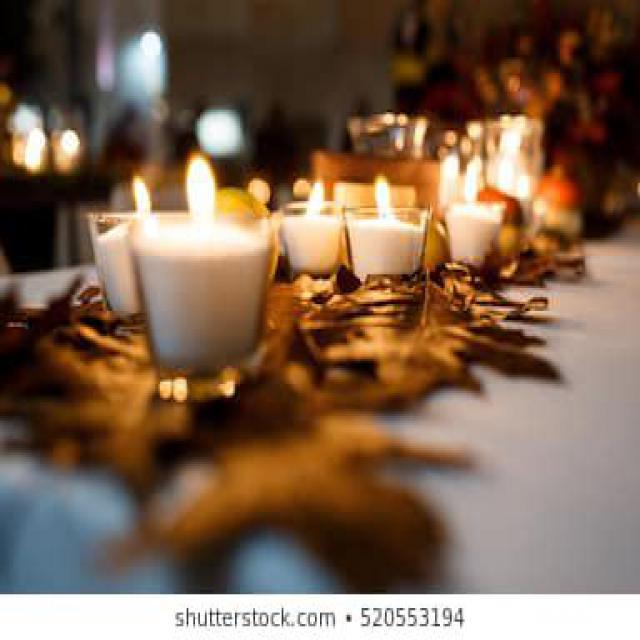Fire: (186, 157, 216, 226), (374, 176, 391, 217), (305, 182, 323, 214)
